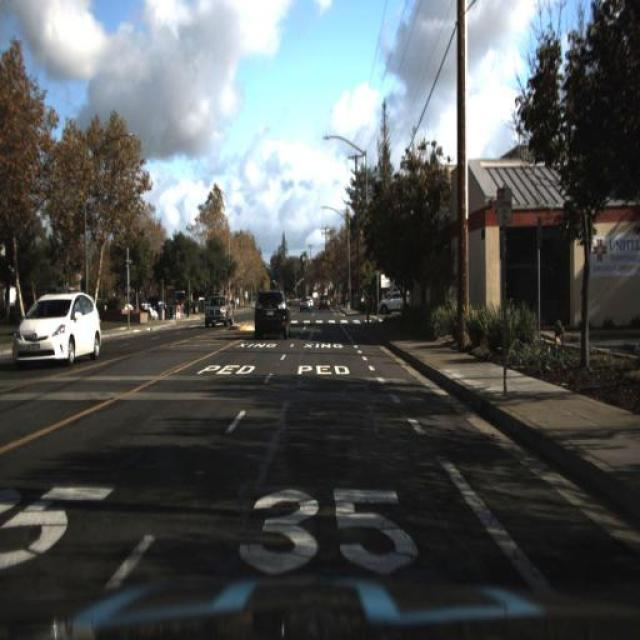car: (14, 290, 101, 366), (246, 281, 298, 353), (253, 288, 291, 341), (376, 290, 410, 319), (203, 296, 235, 326), (314, 286, 332, 310), (296, 296, 314, 316)
